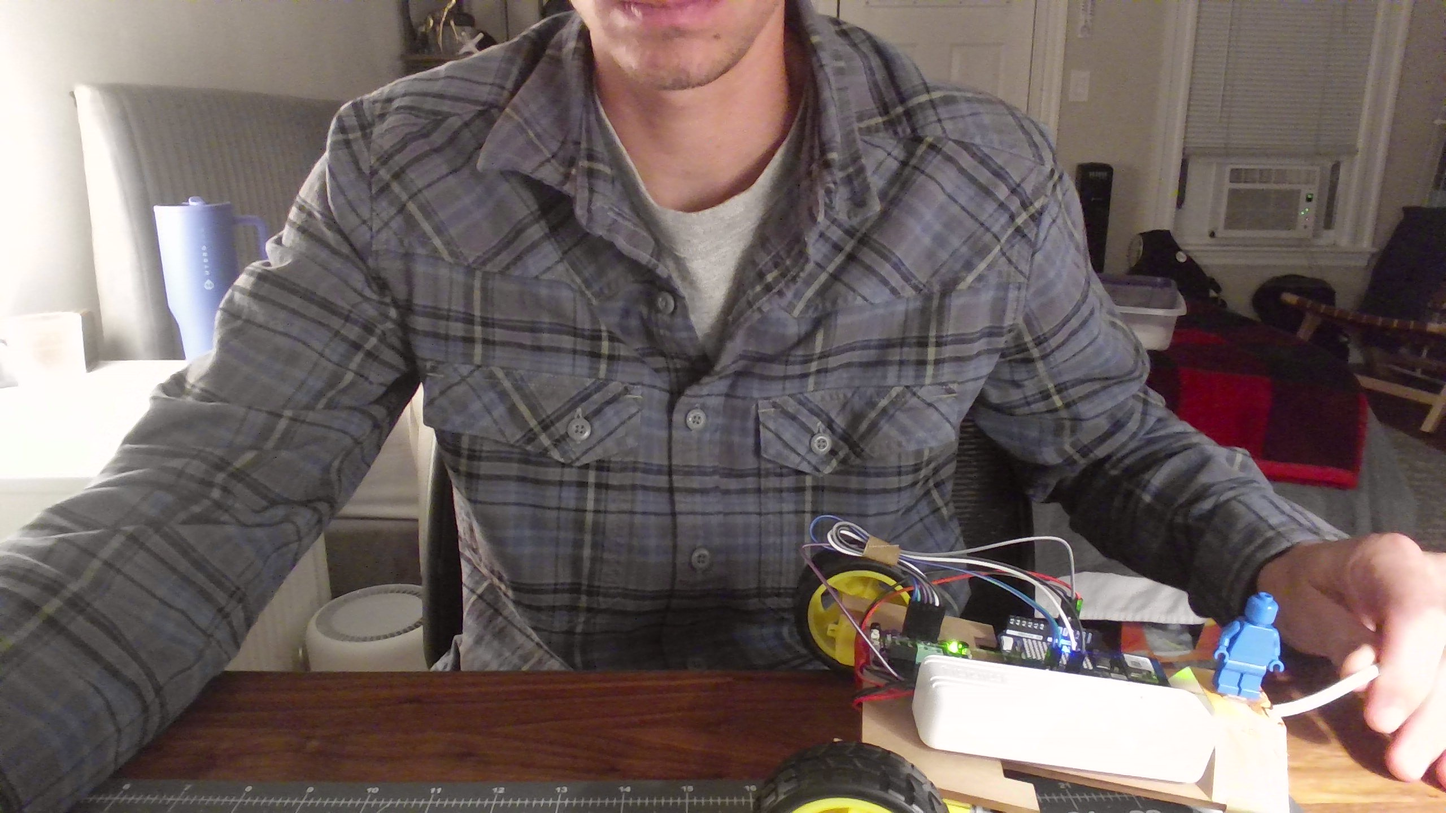Training-dataset-2: (1196, 574, 1301, 713)
